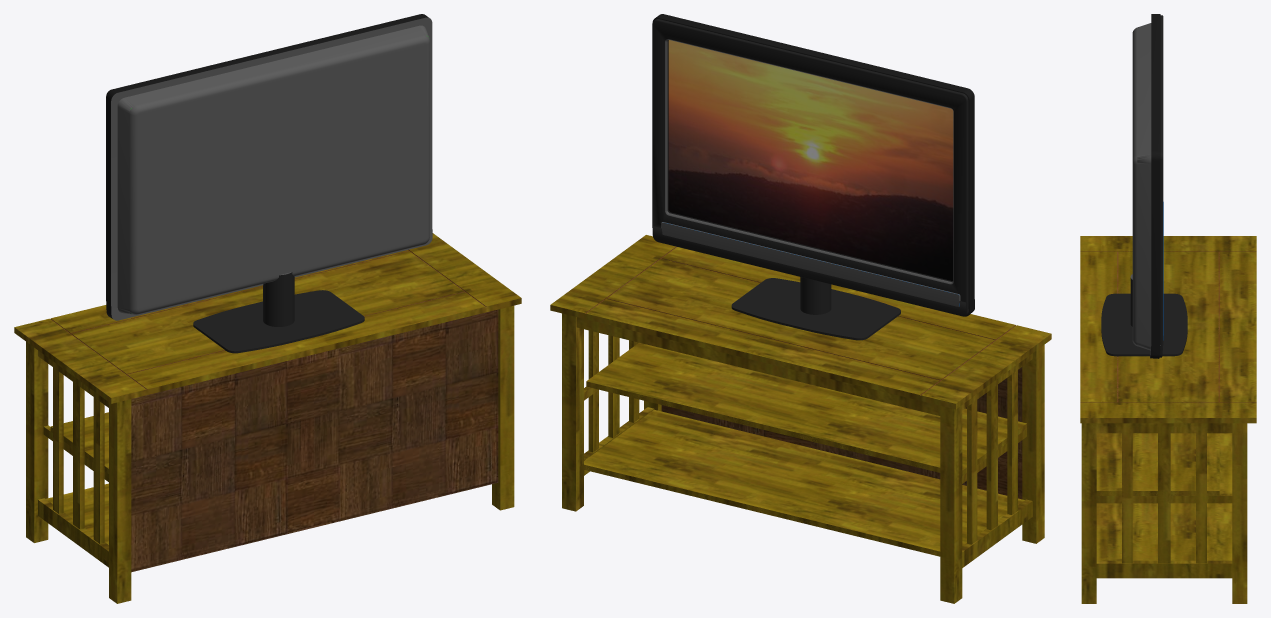
The picture shows the model from 3 angles, left to right: view 1: azimuth 30°, elevation 25°; view 2: azimuth 150°, elevation 25°; view 3: azimuth 270°, elevation 25°; orthographic projection. The views are drawn at different scales.
Visible parts, largest first — view 1: tv.dxf (×5), group_6, group_1 (×3), group_4, group_3, group_2, group_5; view 2: tv.dxf (×8), group_1 (×3), group_2 (×2), group_5 (×2), group_4, group_3, group_6; view 3: group_1 (×3), group_3, tv.dxf (×4), group_2, group_5 (×2).
Part boxes in pixels (<box>): tv.dxf (×5): <box>106,14,432,353</box>; group_6: <box>131,309,498,572</box>; group_1 (×3): <box>14,233,521,403</box>; group_4: <box>26,342,131,603</box>; group_3: <box>492,305,514,510</box>; group_2: <box>46,483,108,544</box>; group_5: <box>51,412,108,468</box>; tv.dxf (×8): <box>652,14,974,340</box>; group_1 (×3): <box>550,235,1051,415</box>; group_2 (×2): <box>584,409,1024,556</box>; group_5 (×2): <box>586,342,1026,475</box>; group_4: <box>940,345,1044,603</box>; group_3: <box>562,313,661,511</box>; group_6: <box>661,367,1022,499</box>; group_1 (×3): <box>1080,236,1256,423</box>; group_3: <box>1081,423,1247,603</box>; tv.dxf (×4): <box>1101,14,1187,358</box>; group_2: <box>1096,433,1232,560</box>; group_5 (×2): <box>1096,433,1219,495</box>.
Size of the model in its own units: 46.74 by 19.13 by 51.54.
16 materials, 6 textured.
